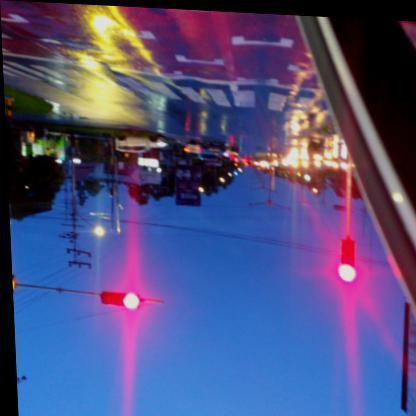red: (335, 234, 356, 281), (98, 291, 139, 307)
